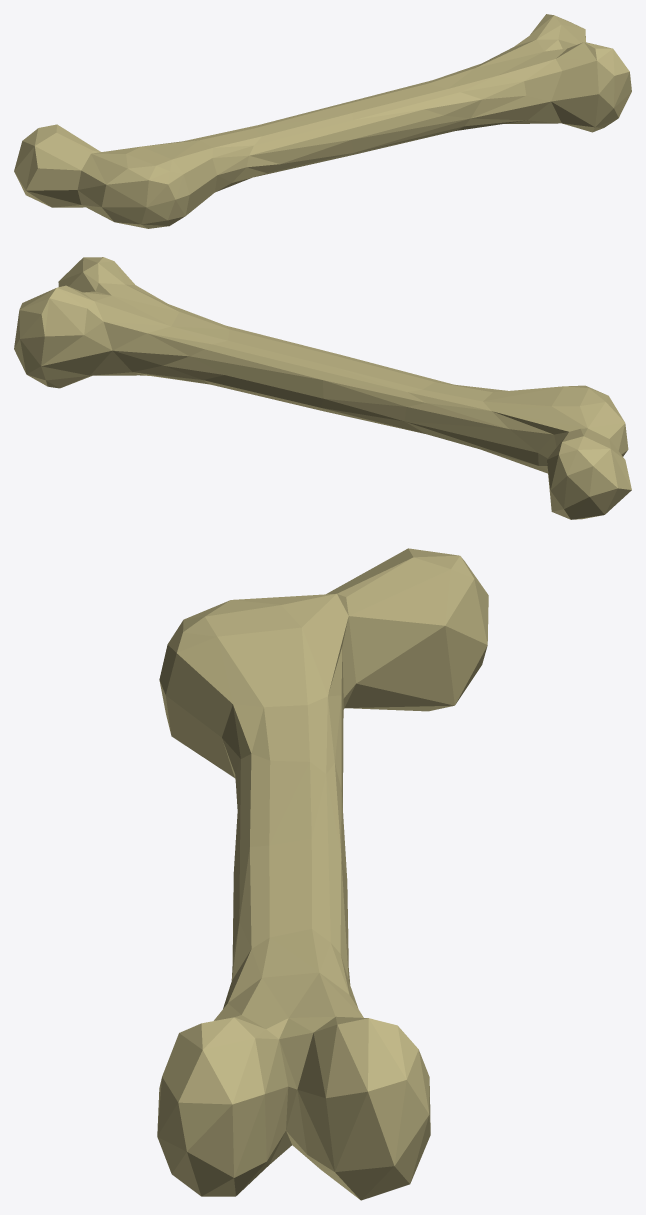
The model's file is ghoul bone.glb.
The picture shows the model from 3 angles, top to bottom: view 1: azimuth 30°, elevation 25°; view 2: azimuth 150°, elevation 25°; view 3: azimuth 270°, elevation 25°; orthographic projection. The views are drawn at different scales.
Visible parts, largest first — view 1: Cube; view 2: Cube; view 3: Cube.
Part boxes in pixels (<box>): Cube: <box>14,14,631,228</box>; Cube: <box>14,257,631,519</box>; Cube: <box>157,548,488,1200</box>.
Bounding box in the file's own units: 1.33 × 0.2018 × 0.343.
